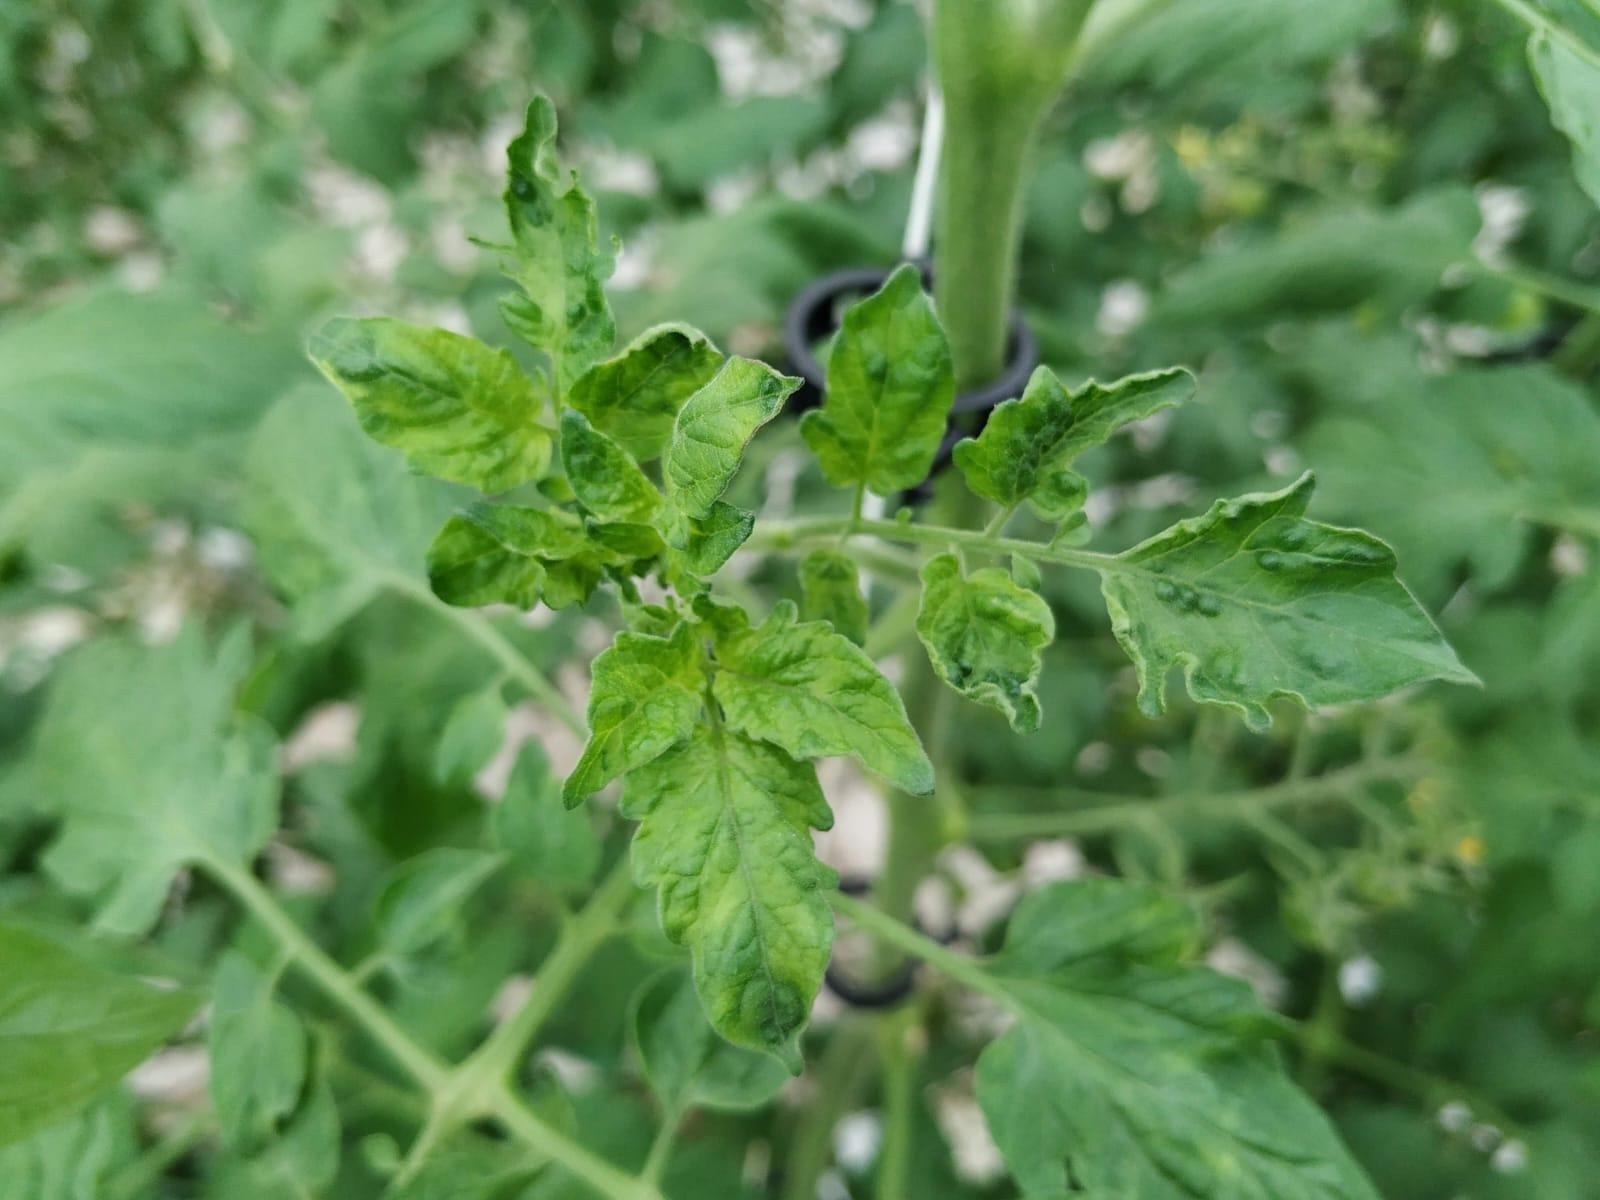Hoja: (1104, 471, 1477, 727), (800, 261, 955, 494)
Hoja rugoso: (621, 721, 835, 1053), (709, 600, 935, 794), (562, 621, 707, 807), (916, 553, 1056, 735), (663, 357, 797, 519)
